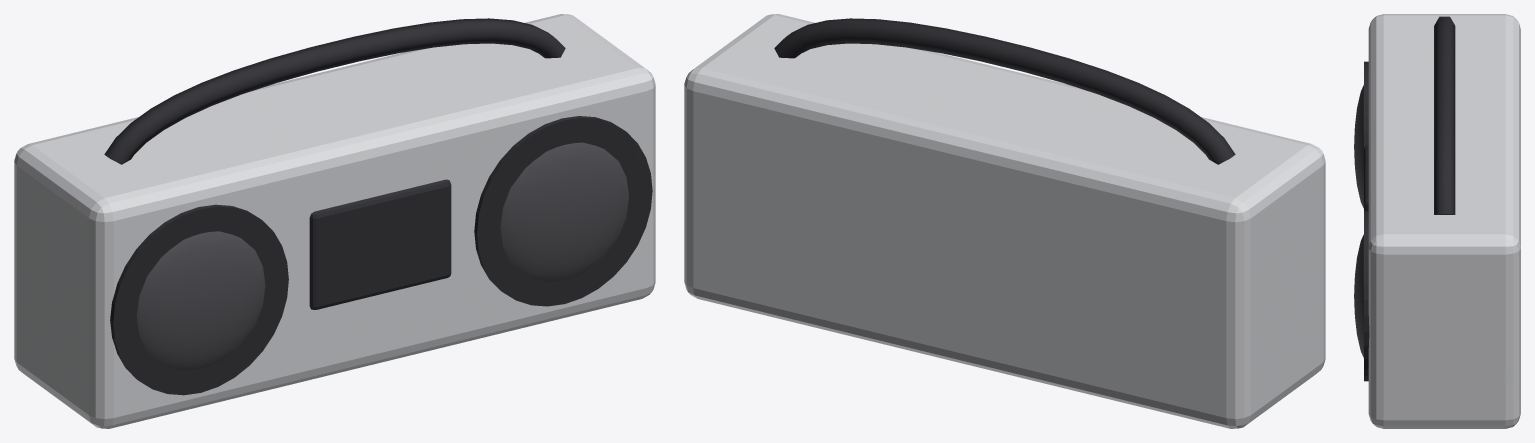
The model's file is boombox.glb.
The picture shows the model from 3 angles, left to right: view 1: azimuth 30°, elevation 25°; view 2: azimuth 150°, elevation 25°; view 3: azimuth 270°, elevation 25°; orthographic projection. The views are drawn at different scales.
Visible parts, largest first — view 1: boombox; view 2: boombox; view 3: boombox.
Boxes of the visible parts, x1,y1,x2,y2 form: boombox: (14,14,655,428); boombox: (684,14,1325,428); boombox: (1354,14,1520,428).
Size of the model in its own units: 18 by 8.9 by 5.48.
Materials: 1 (1 with a texture image).
